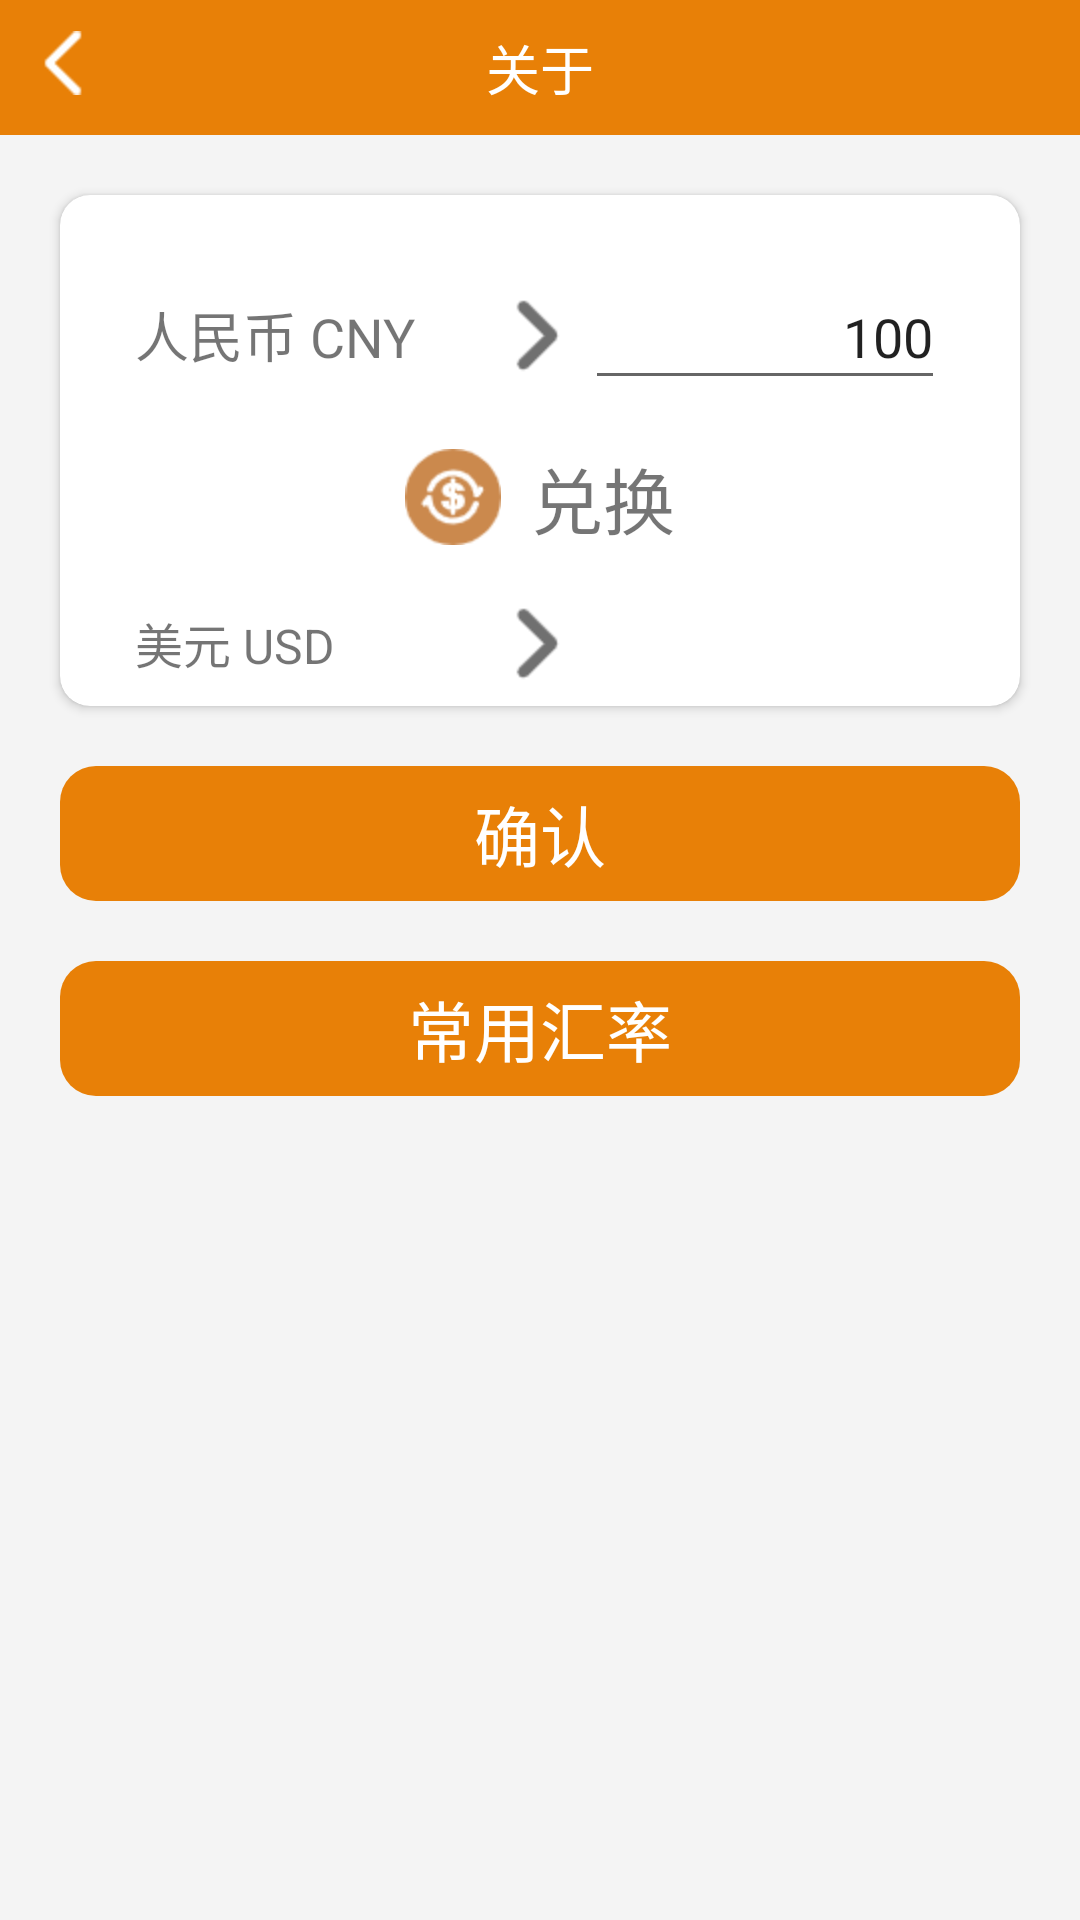

Point at icon controls on the screen. Image size 1080×1920, points as point (x, y).
back: point (63, 63)
